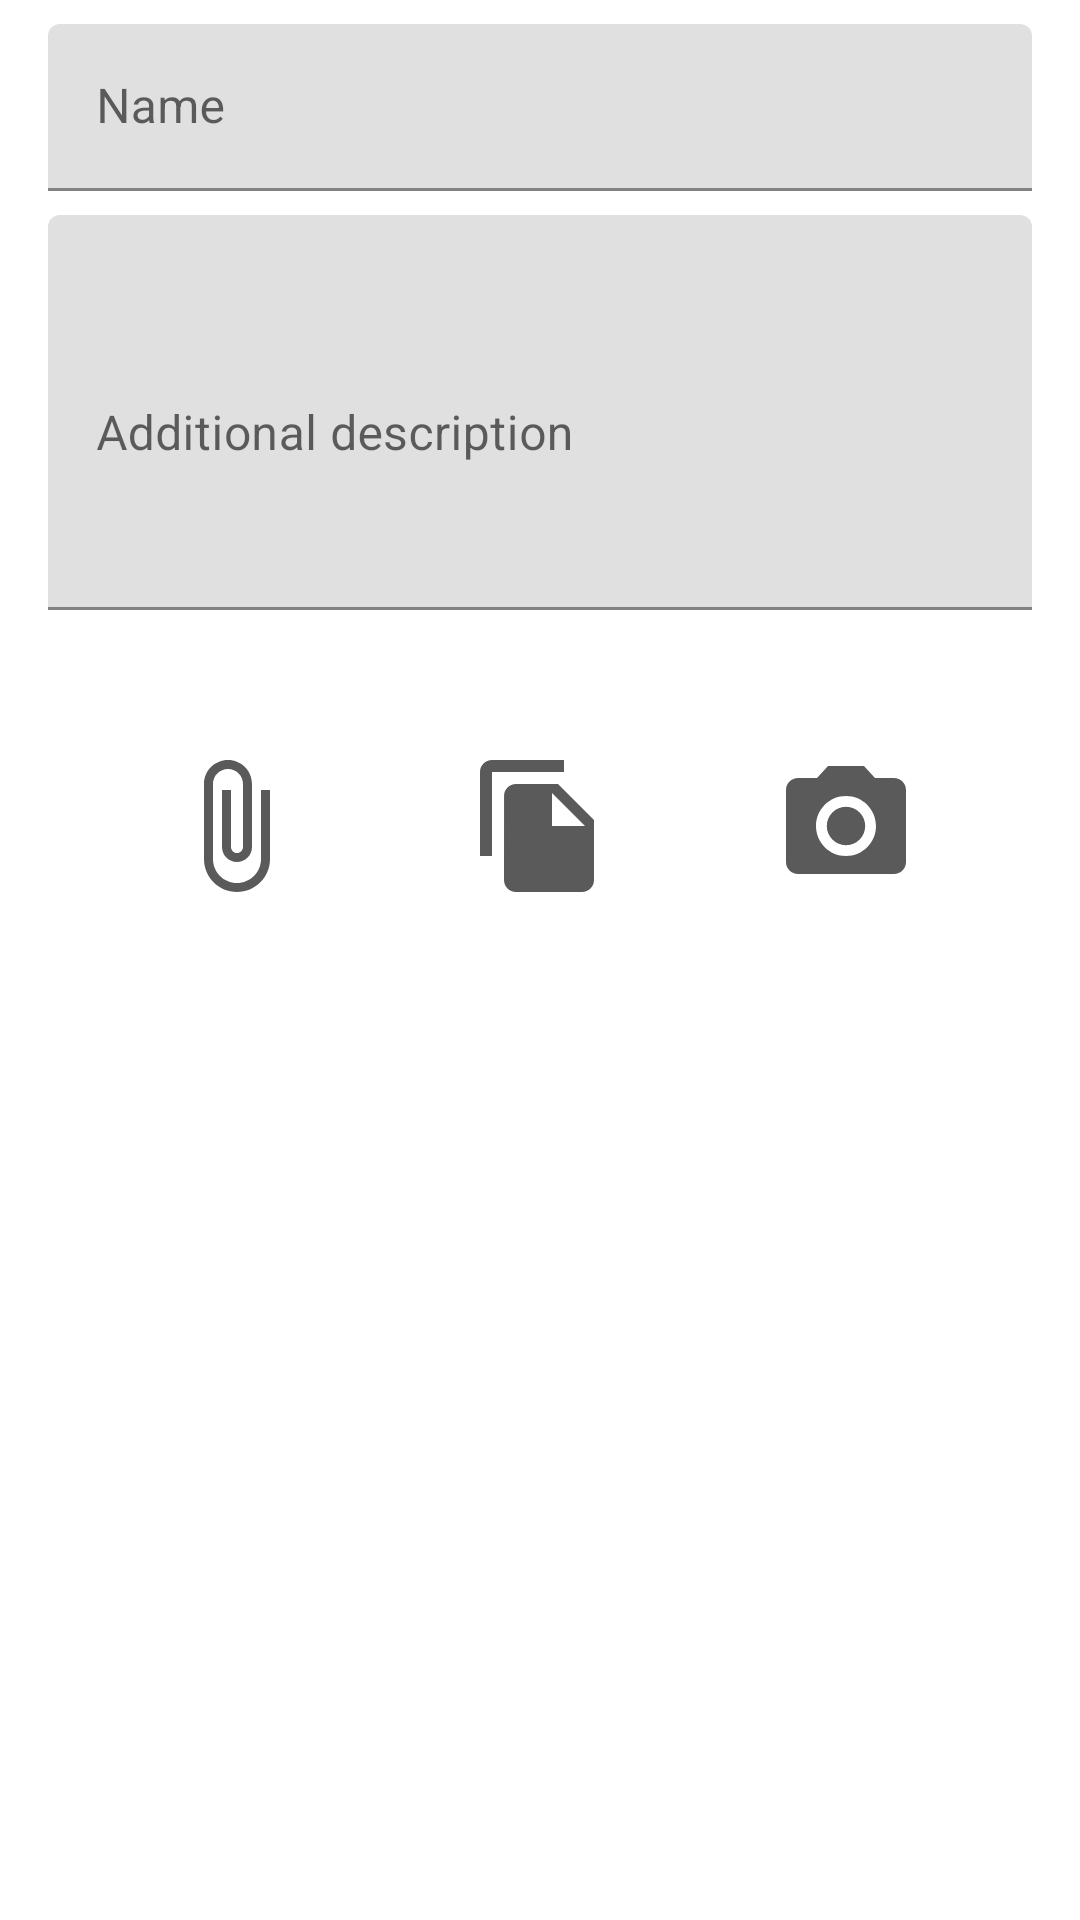

Screen size 1080x1920. Icon name, then its box in pixels as box(x1, y1, x2, y2):
Take photo: box(786, 766, 906, 874)
